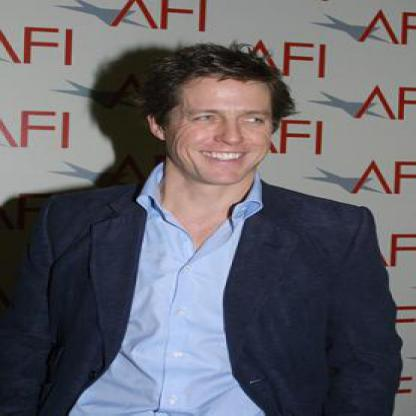face: (163, 51, 281, 188)
